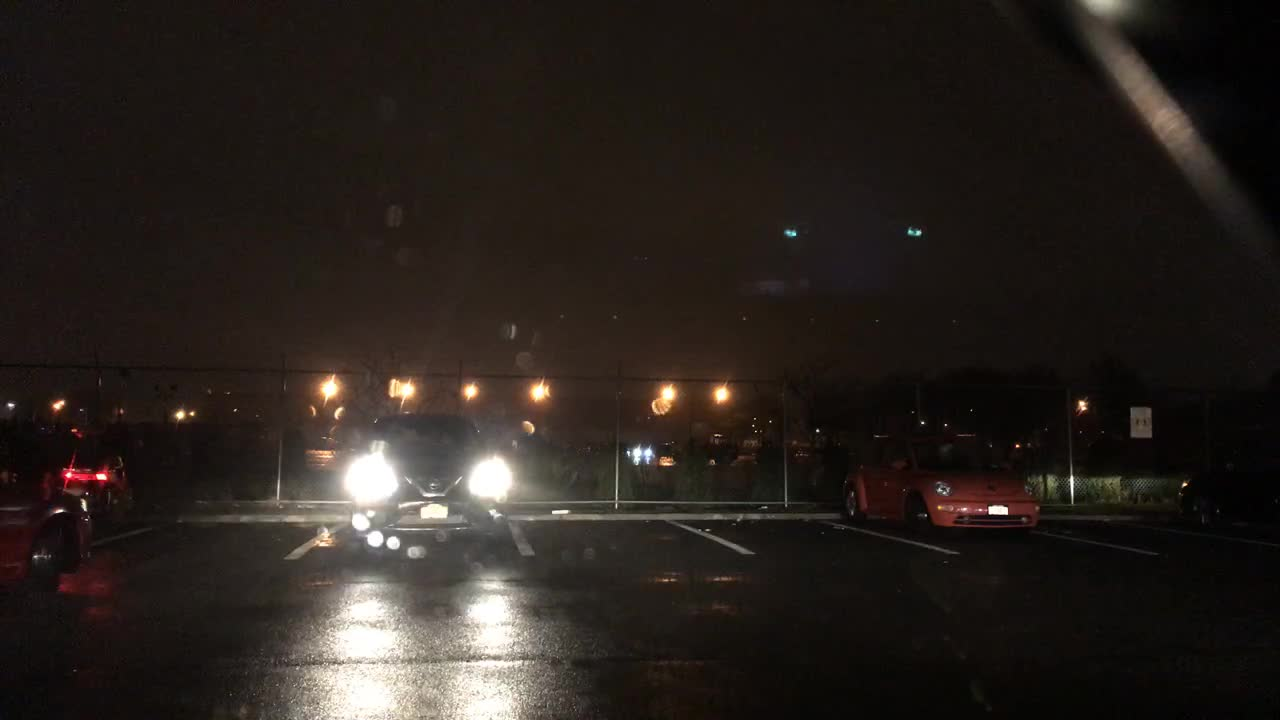car: (834, 426, 1040, 541), (341, 404, 509, 539), (2, 466, 92, 603), (4, 427, 132, 519), (1174, 451, 1276, 539), (628, 444, 655, 461)
traffic sign: (1126, 405, 1155, 437)
